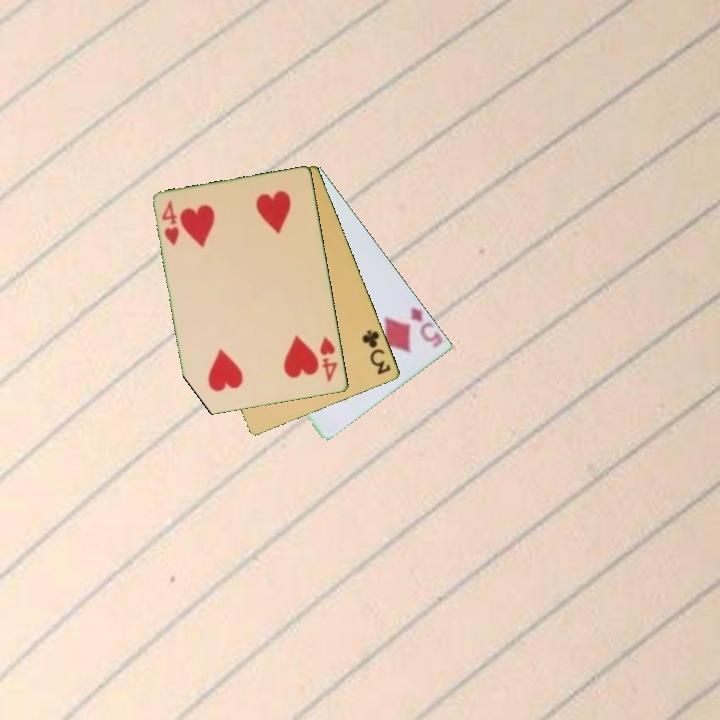3c: (359, 326, 394, 377)
4h: (317, 333, 340, 385), (159, 197, 182, 248)
5d: (407, 303, 442, 349)
